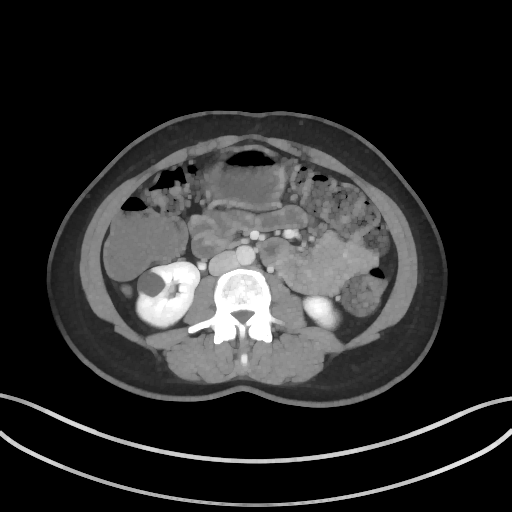Lesion: (134, 271, 167, 300)
